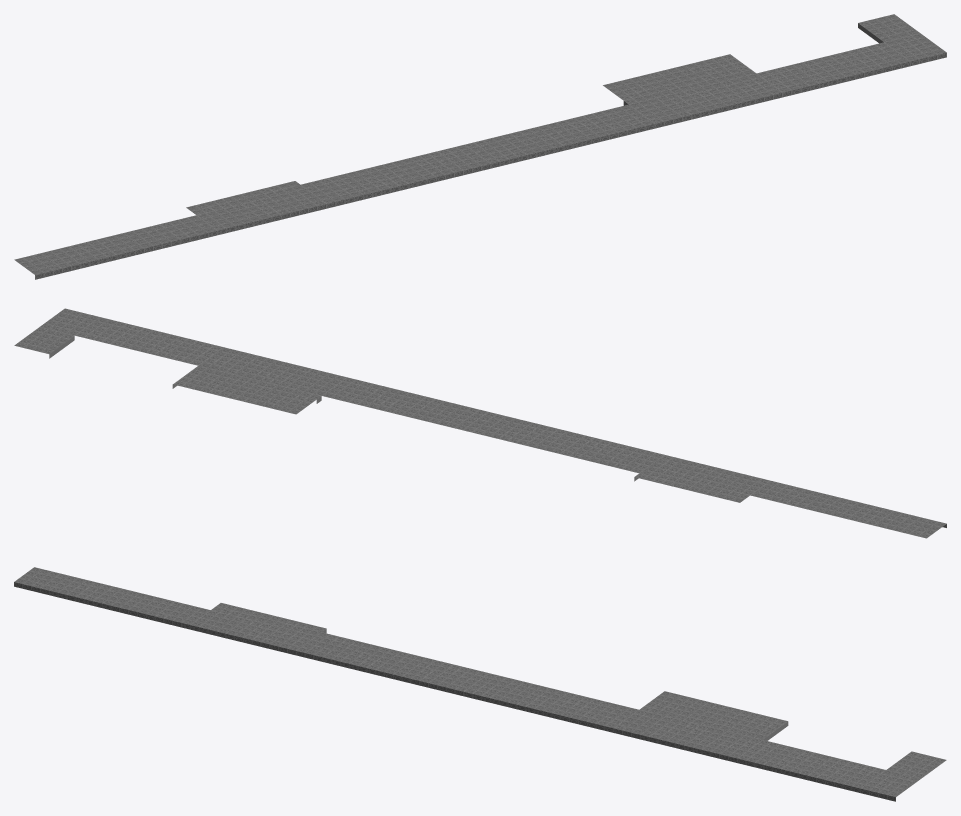
The model's file is prologue-brick-col.glb.
3 renders of one model, top to bottom at view 1: azimuth 30°, elevation 25°; view 2: azimuth 150°, elevation 25°; view 3: azimuth 330°, elevation 25°, orthographic. The views are drawn at different scales.
Visible parts, largest first — view 1: brick-col; view 2: brick-col; view 3: brick-col.
Part boxes in pixels (left/top/right/bottom): brick-col: left=14, top=14, right=946, bottom=279; brick-col: left=14, top=308, right=946, bottom=538; brick-col: left=14, top=567, right=946, bottom=801.
Bounding box in the file's own units: 200 × 1 × 20.
1 material, 1 textured.
